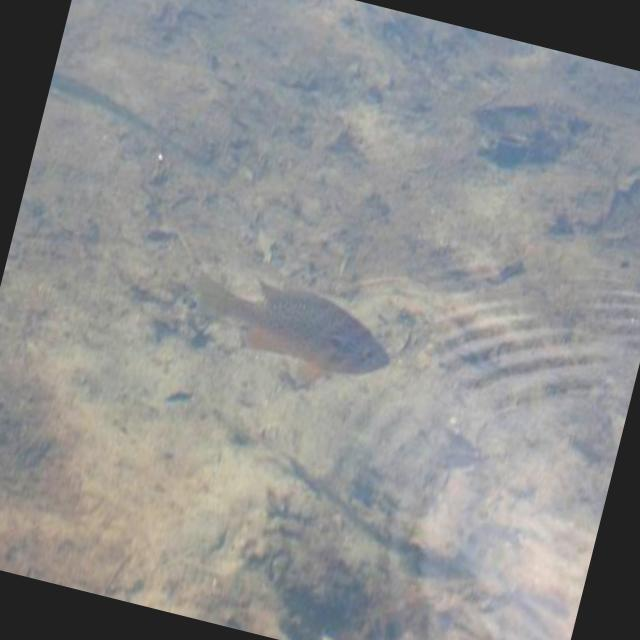Gunes Levregi: (166, 254, 406, 406)
